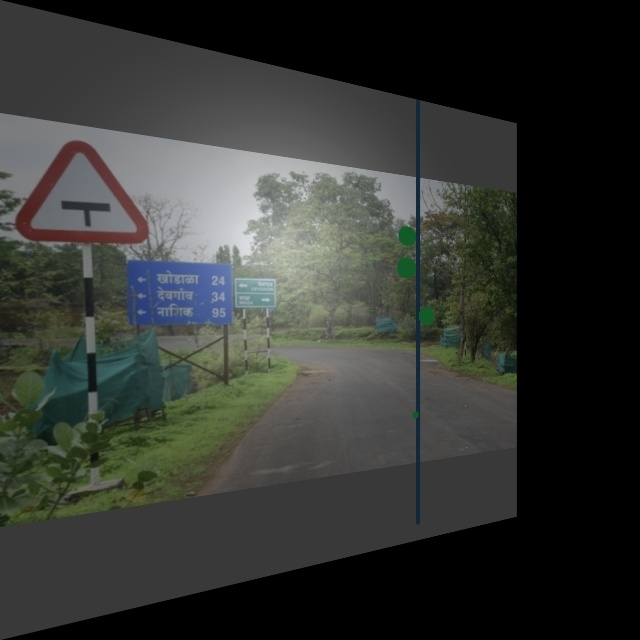T_Intersection: (20, 129, 152, 246)
